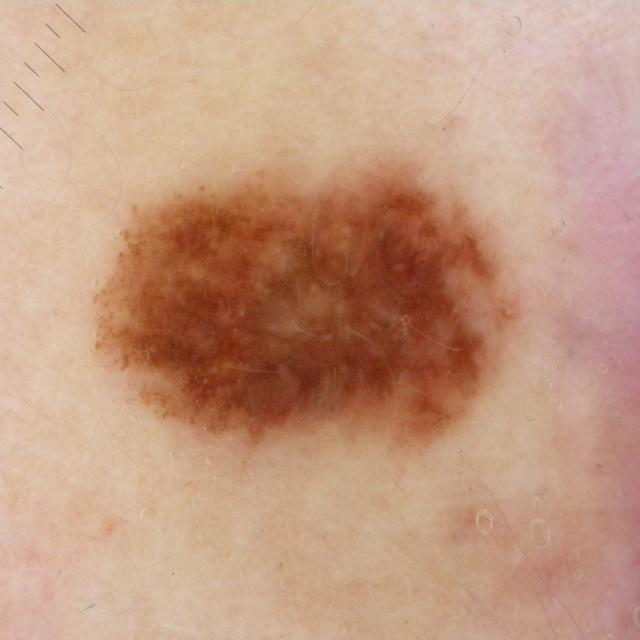Benign: (90, 175, 520, 451)
